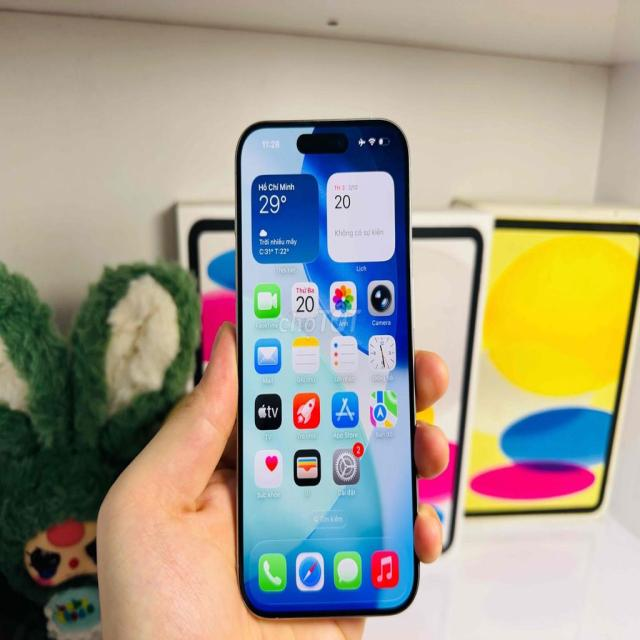gen_15: (214, 116, 434, 621)
